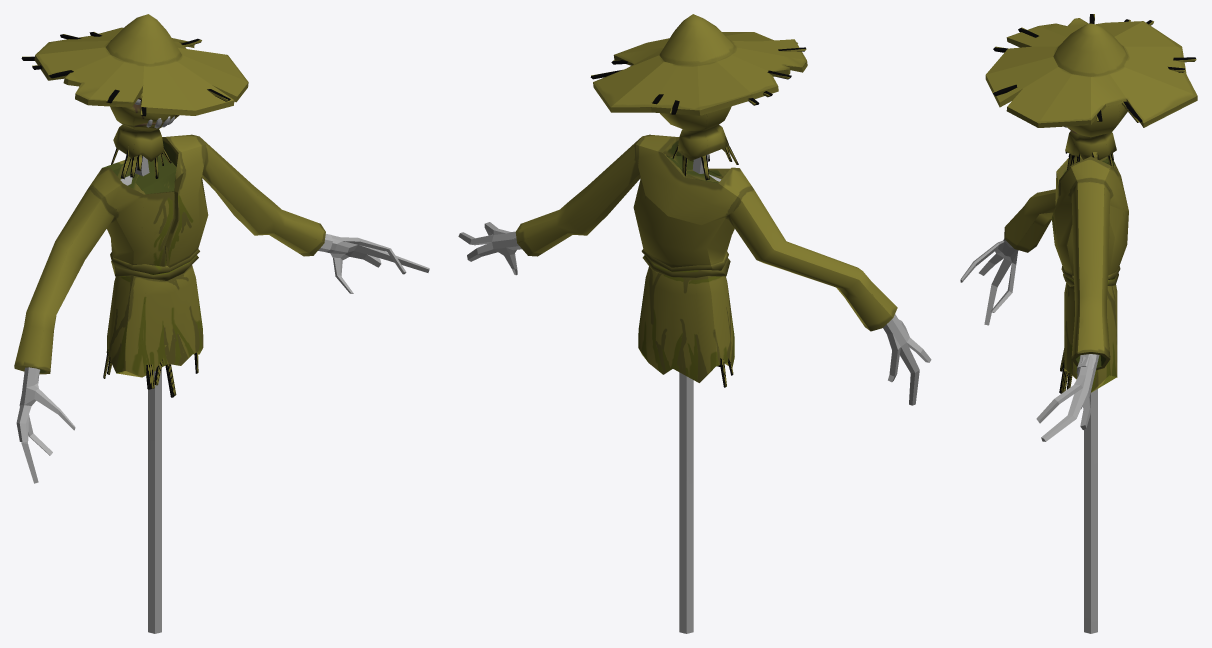
Rendered from scarecrow-scary.fbx.
3 renders of one model, left to right at view 1: azimuth 30°, elevation 25°; view 2: azimuth 150°, elevation 25°; view 3: azimuth 270°, elevation 25°, orthographic. The views are drawn at different scales.
Visible parts, largest first — view 1: pCube112, pCylinder22, pCylinder20, pSphere8, pCube115, pCube114; view 2: pCube112, pCylinder22, pCylinder20, pSphere8, pCube114, pCube115; view 3: pCylinder22, pCube112, pCylinder20, pSphere8, pCube115, pCube114.
Boxes of the visible parts, bbox=[...] form: pCube112: bbox=[14, 134, 325, 377]; pCylinder22: bbox=[34, 14, 248, 115]; pCylinder20: bbox=[135, 156, 161, 633]; pSphere8: bbox=[110, 95, 179, 161]; pCube115: bbox=[318, 235, 429, 293]; pCube114: bbox=[16, 367, 75, 483]; pCube112: bbox=[515, 134, 897, 382]; pCylinder22: bbox=[593, 14, 807, 115]; pCylinder20: bbox=[679, 154, 708, 633]; pSphere8: bbox=[660, 106, 731, 160]; pCube114: bbox=[883, 314, 931, 405]; pCube115: bbox=[458, 222, 521, 275]; pCylinder22: bbox=[985, 18, 1197, 127]; pCube112: bbox=[1004, 156, 1128, 392]; pCylinder20: bbox=[1084, 389, 1097, 633]; pSphere8: bbox=[1065, 103, 1127, 160]; pCube115: bbox=[1036, 354, 1099, 441]; pCube114: bbox=[960, 238, 1018, 325].
Size of the model in its own units: 8.22 by 11.03 by 3.92.
Materials: 5 (3 with a texture image).
